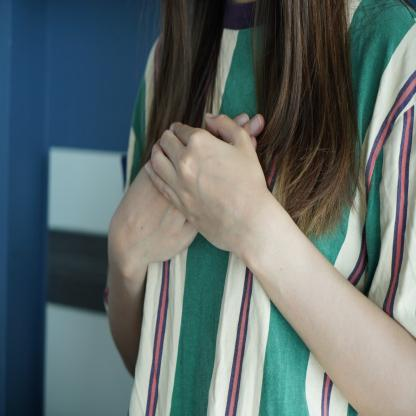Grieve: (118, 89, 309, 310)
